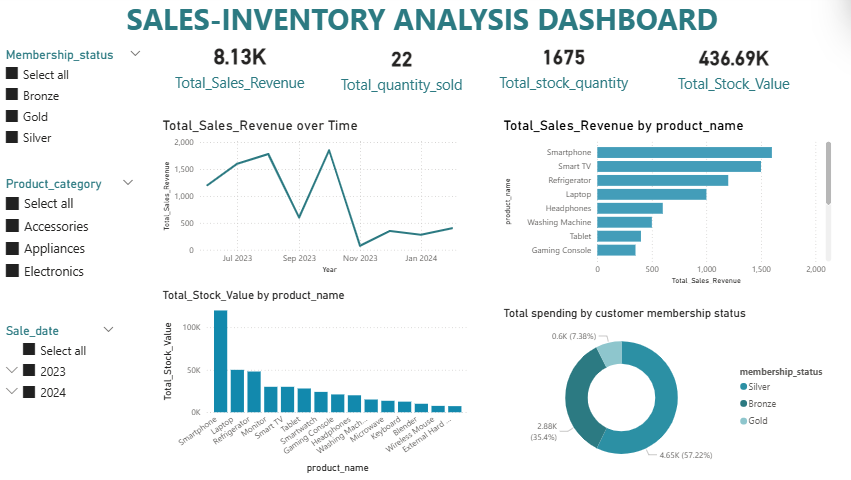

What the dashboard file says about the page in this screenshot:
{"tool":"powerbi","page":{"name":"Dashboard","canvas":[1280,720],"ordinal":3},"visuals":[{"type":"textbox","box":[184.8,0,898.7,72.2],"z":0},{"type":"slicer","fields":{"Values":["sales.sale_date.Variation.Date Hierarchy.Year","sales.sale_date.Variation.Date Hierarchy.Month"]},"box":[0,477.1,184.4,229.8],"z":1000},{"type":"slicer","fields":{"Values":["products.category"]},"box":[0,262,213.3,194.9],"z":2000},{"type":"slicer","fields":{"Values":["customers.membership_status"]},"box":[0,71.7,223.9,178.5],"z":3000},{"type":"clusteredBarChart","fields":{"Category":["products.product_name"],"Y":["sales.Total_Sales_Revenue"]},"box":[739,180,491.7,250.2],"z":4000},{"type":"lineChart","title":"Total_Sales_Revenue over Time","fields":{"Y":["sales.Total_Sales_Revenue"],"Category":["sales.sale_date.Variation.Date Hierarchy.Year","sales.sale_date.Variation.Date Hierarchy.Month"]},"box":[238.5,180,459.5,234.1],"z":5000},{"type":"clusteredColumnChart","fields":{"Y":["products.Total_Stock_Value"],"Category":["products.product_name"]},"box":[238.5,430.2,459.5,276.6],"z":6000},{"type":"donutChart","title":"Total spending by customer membership status","fields":{"Category":["customers.membership_status"],"Y":["sales.Total_Sales_Revenue"]},"box":[739,456.6,493.2,250.2],"z":7000},{"type":"card","fields":{"Values":["sales.Total_Revenue"]},"box":[238.5,57.1,237.1,89.3],"z":8000},{"type":"card","fields":{"Values":["sales.Total_quantity_sold"]},"box":[475.6,57.1,237.1,98],"z":9000},{"type":"card","fields":{"Values":["inventory.Total_stock_quantity"]},"box":[724.4,58.5,216.6,87.8],"z":10000},{"type":"card","fields":{"Values":["products.Total_Stock_Value"]},"box":[977.6,61.5,210.7,84.9],"z":11000}]}

Visuals, with their boxes in screenshot pixels (x1, y1, x2, y2), scaled from the page's 1280x720 canvas onto the 851x480 screenshot:
textbox: [123,0,720,48]
slicer - sales.sale_date.Variation.Date Hierarchy.Year x sales.sale_date.Variation.Date Hierarchy.Month: [0,318,123,471]
slicer - products.category: [0,175,142,305]
slicer - customers.membership_status: [0,48,149,167]
clusteredBarChart - products.product_name x sales.Total_Sales_Revenue: [491,120,818,287]
"Total_Sales_Revenue over Time" lineChart: [159,120,464,276]
clusteredColumnChart - products.Total_Stock_Value x products.product_name: [159,287,464,471]
"Total spending by customer membership status" donutChart: [491,304,819,471]
card - sales.Total_Revenue: [159,38,316,98]
card - sales.Total_quantity_sold: [316,38,474,103]
card - inventory.Total_stock_quantity: [482,39,626,98]
card - products.Total_Stock_Value: [650,41,790,98]
